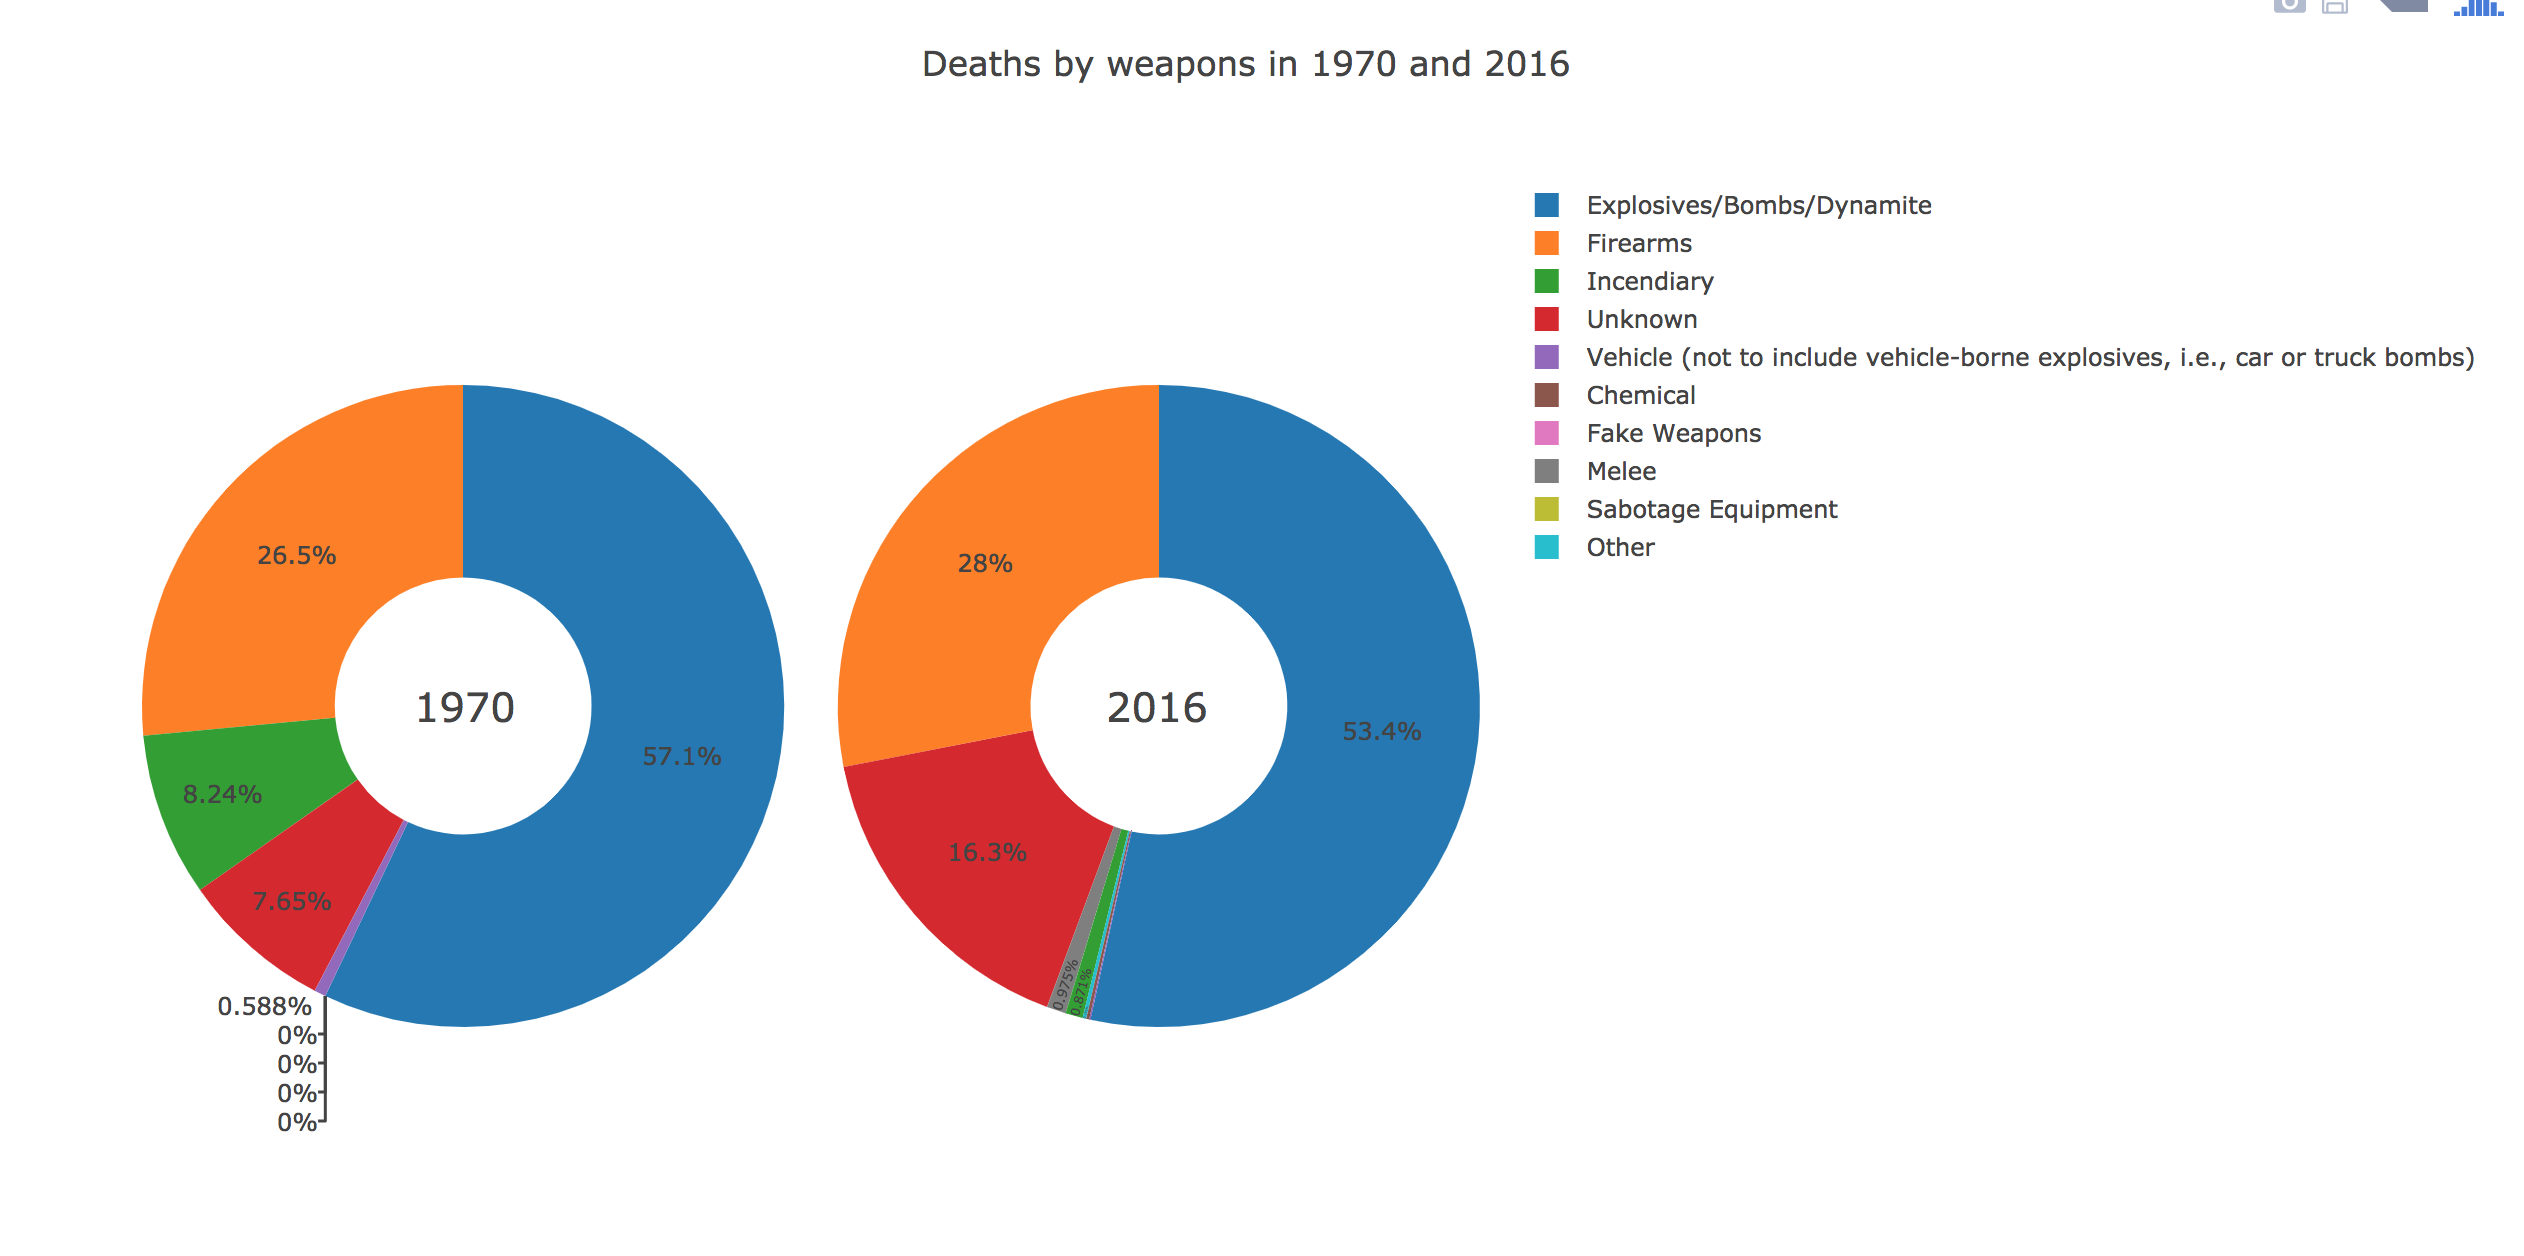

What the dashboard file says about the page in this screenshot:
{"tool":"tableau","page":{"name":"Dashboard 1","canvas":[1000,800],"ordinal":0},"visuals":[{"type":"worksheet","title":"Sheet 2","mark":"Circle","box":[0,0,420,800]},{"type":"worksheet","title":"Sheet 1","mark":"Circle","box":[420,0,420,800]},{"type":"legend","title":"Sheet 2","param":"[federated.04id06k0r0qn6o1epfiiu1t74m8r].[none:country_txt:nk]","box":[840,0,160,710]},{"type":"filter","title":"Sheet 1","param":"[federated.04id06k0r0qn6o1epfiiu1t74m8r].[none:iyear:qk]","box":[840,710,160,69]}]}

Visuals, with their boxes on the page's 1000x800 design canvas (x1, y1, x2, y2). These are canvas units, not pixel positions in the 2524x1256 screenshot, which may show the page scaled, cropped or inside an application window:
"Sheet 2" worksheet (Circle marks): [0,0,420,800]
"Sheet 1" worksheet (Circle marks): [420,0,840,800]
"Sheet 2" legend: [840,0,1000,710]
"Sheet 1" filter: [840,710,1000,779]
